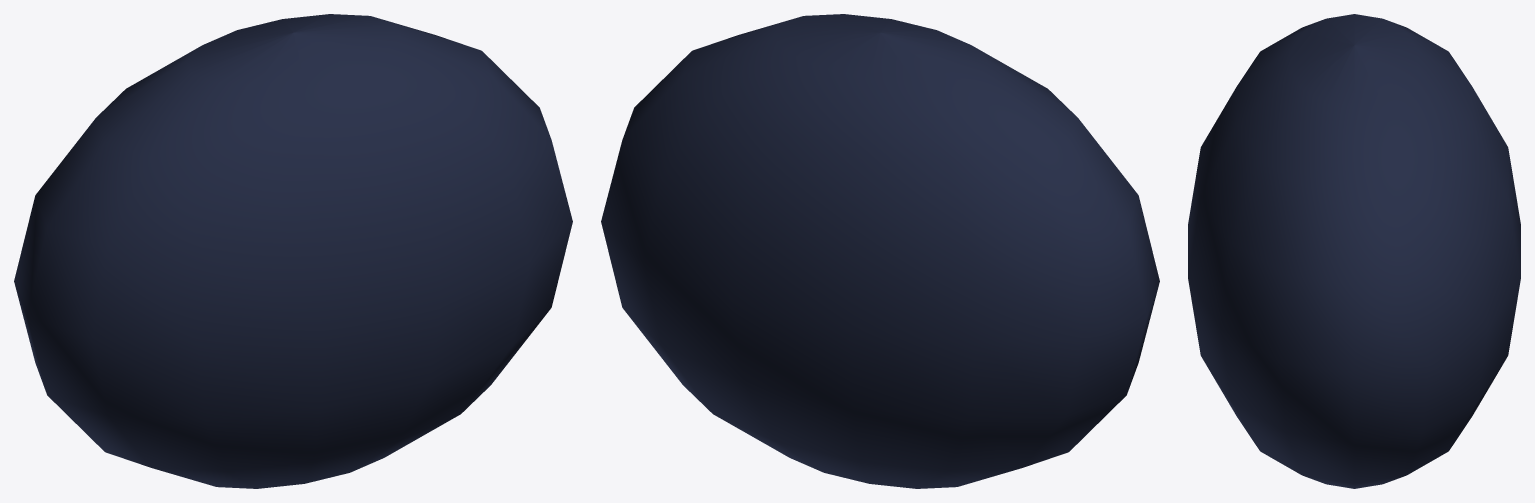
Rendered from hips.obj.
3 views of the same model, side by side, from view 1: azimuth 30°, elevation 25°; view 2: azimuth 150°, elevation 25°; view 3: azimuth 270°, elevation 25° (orthographic). The views are drawn at different scales.
Parts seen in each view (by area): view 1: hips; view 2: hips; view 3: hips.
Part boxes in pixels (box(x1,y1,x2,y2)): hips: box(14, 14, 572, 488); hips: box(601, 14, 1159, 488); hips: box(1188, 14, 1520, 488).
Size of the model in its own units: 0.3631 by 0.2848 by 0.2082.
